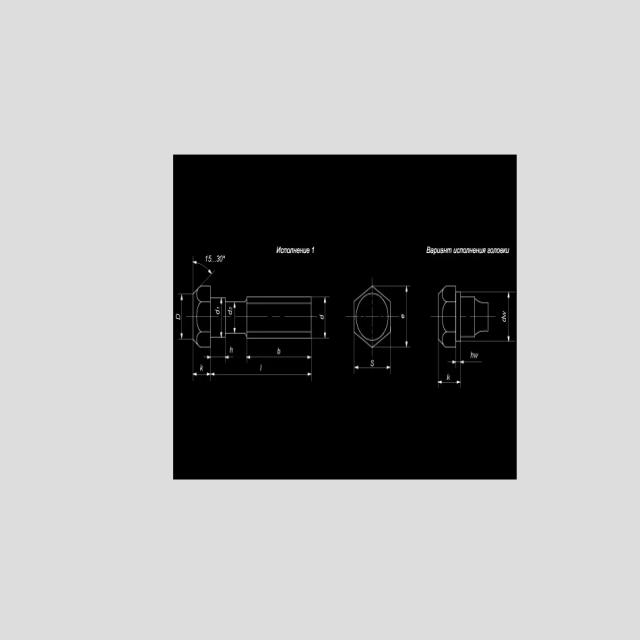marking_line: (206, 349, 314, 383), (435, 349, 484, 389), (245, 340, 315, 363), (489, 291, 516, 343), (392, 284, 411, 349), (436, 349, 462, 389), (352, 349, 393, 374), (191, 253, 216, 285), (313, 296, 331, 339), (191, 349, 212, 385), (178, 293, 193, 341), (458, 343, 483, 368), (203, 349, 235, 363), (447, 348, 458, 369), (219, 299, 223, 336), (233, 303, 237, 333)
numeric: (204, 255, 208, 263), (208, 254, 212, 262), (219, 255, 223, 263), (217, 254, 220, 263)
